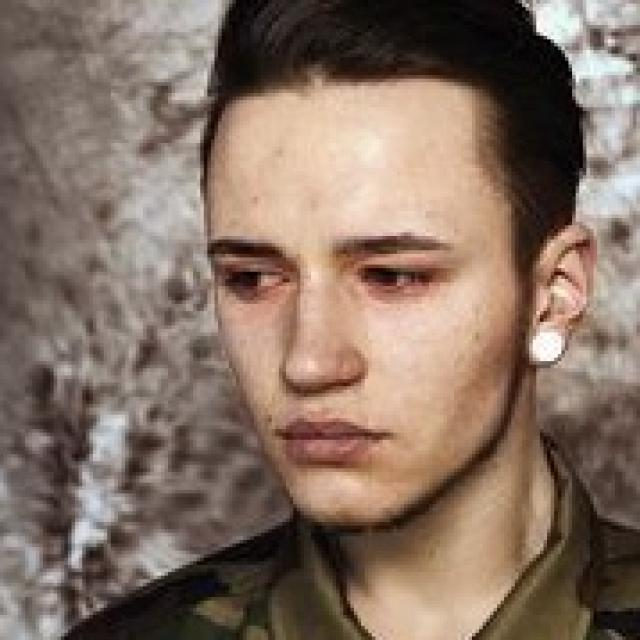Depress: (201, 91, 520, 535)
